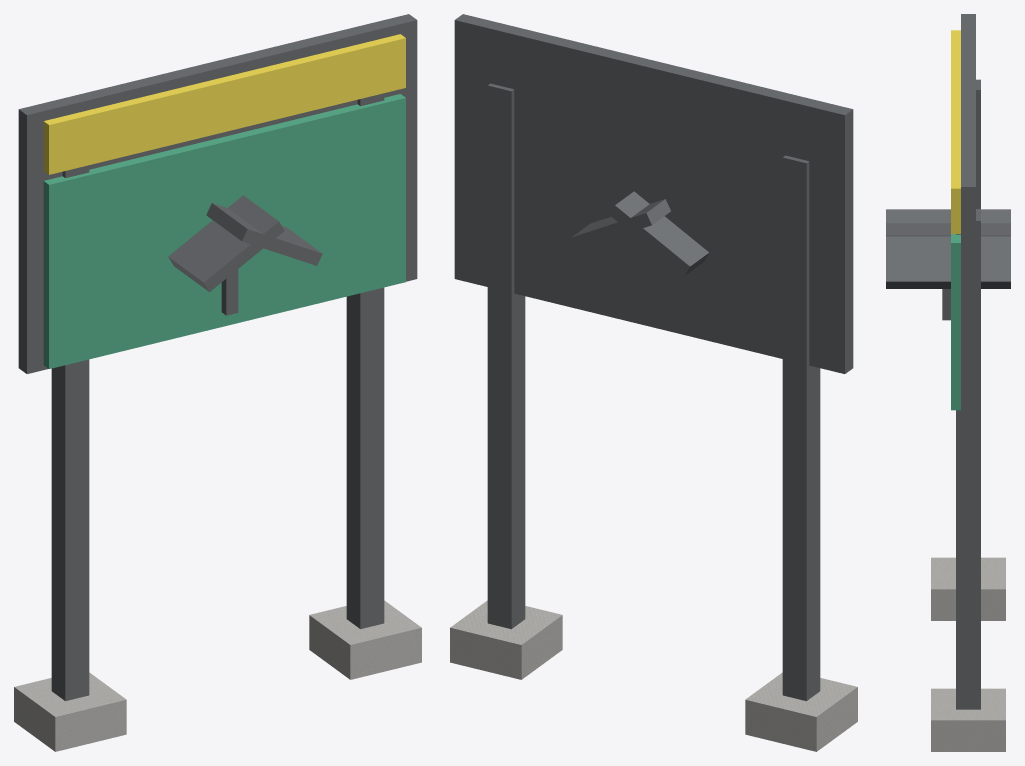
Rendered from recycling-and-waste-transfer-yard-recycling-and-waste--27d5e29d__34899.glb.
3 views of the same model, side by side, from view 1: azimuth 30°, elevation 25°; view 2: azimuth 150°, elevation 25°; view 3: azimuth 270°, elevation 25° (orthographic). The views are drawn at different scales.
Parts seen in each view (by area): view 1: recycling-and-waste-transfer-yard-material-signage-board; view 2: recycling-and-waste-transfer-yard-material-signage-board; view 3: recycling-and-waste-transfer-yard-material-signage-board.
Part boxes in pixels (x1,y1,x2,y2): recycling-and-waste-transfer-yard-material-signage-board: (14,14,421,751); recycling-and-waste-transfer-yard-material-signage-board: (450,14,857,751); recycling-and-waste-transfer-yard-material-signage-board: (886,14,1010,751).
Bounding box in the file's own units: 1.64 × 2.52 × 0.4999.
Materials: 4 (1 with a texture image).
